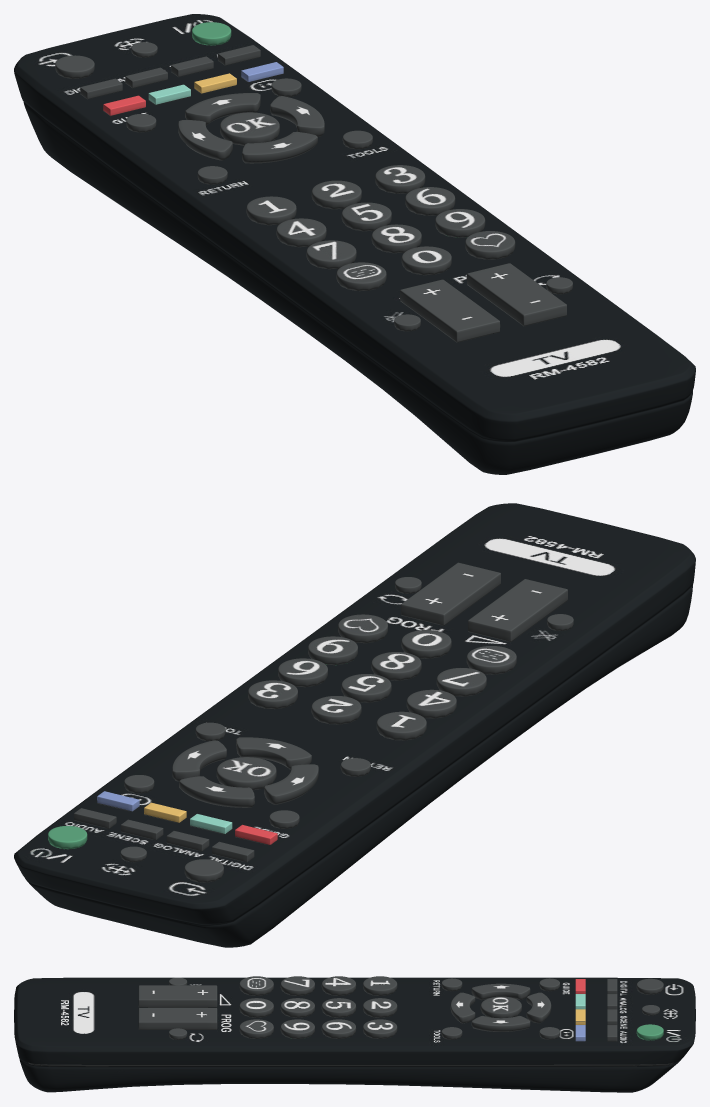
The model's file is 10816_ Remote Control_v2_LOD3.fbx.
3 views of the same model, one above another, from view 1: azimuth 30°, elevation 25°; view 2: azimuth 150°, elevation 25°; view 3: azimuth 270°, elevation 25° (orthographic). The views are drawn at different scales.
Visible parts, largest first — view 1: Default; view 2: Default; view 3: Default.
Part boxes in pixels (x1,y1,x2,y2): Default: (14, 14, 695, 474); Default: (14, 503, 695, 947); Default: (14, 976, 695, 1092).
Bounding box in the file's own units: 1.97 × 0.7484 × 7.83.
Materials: 1 (1 with a texture image).
